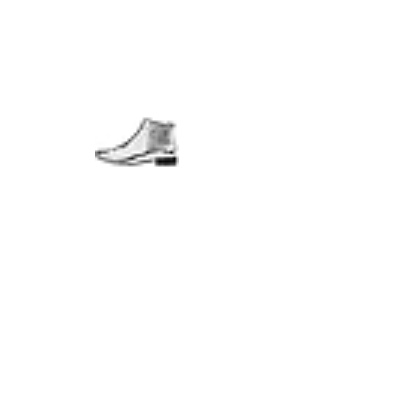0: (132, 8, 160, 36)
3: (27, 119, 83, 175)
5: (235, 4, 277, 46)
Sneaker: (5, 14, 89, 98)
